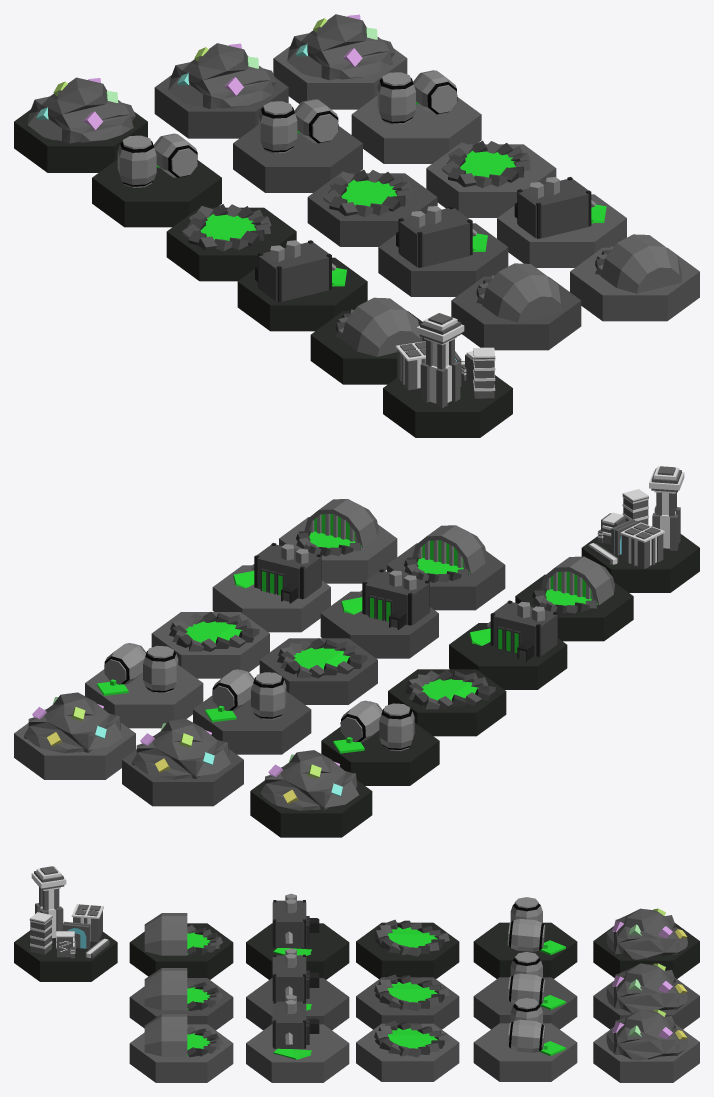
Rendered from toxic final.fbx.
3 renders of one model, top to bottom at view 1: azimuth 30°, elevation 25°; view 2: azimuth 150°, elevation 25°; view 3: azimuth 270°, elevation 25°, orthographic. The views are drawn at different scales.
Visible parts, largest first — view 1: Cylinder.035, Cylinder.008, Cylinder.002, Cylinder.046, Cylinder.001, Cylinder.007, Cylinder.011, Cylinder.041, Cylinder.004, Cylinder.047, Cylinder.006, Cylinder.042 (+4 smaller); view 2: Cylinder.035, Cylinder.007, Cylinder.001, Cylinder.047, Cylinder.004, Cylinder.011, Cylinder.042, Cylinder.002, Cylinder.008, Cylinder.046, Cylinder.006, Cylinder.012 (+4 smaller); view 3: Cylinder.035, Cylinder.042, Cylinder.047, Cylinder.046, Cylinder.041, Cylinder.043, Cylinder.007, Cylinder.012, Cylinder.008, Cylinder.011, Cylinder.009, Cylinder.001 (+4 smaller).
Part boxes in pixels (left/top/right/bottom): Cylinder.035: left=383, top=313, right=512, bottom=437; Cylinder.008: left=92, top=133, right=221, bottom=227; Cylinder.002: left=233, top=99, right=362, bottom=192; Cylinder.046: left=351, top=70, right=481, bottom=163; Cylinder.001: left=154, top=43, right=288, bottom=138; Cylinder.007: left=14, top=77, right=147, bottom=172; Cylinder.011: left=237, top=240, right=367, bottom=331; Cylinder.041: left=570, top=234, right=699, bottom=321; Cylinder.004: left=378, top=206, right=508, bottom=296; Cylinder.047: left=273, top=14, right=407, bottom=109; Cylinder.006: left=451, top=263, right=581, bottom=350; Cylinder.042: left=497, top=177, right=626, bottom=267; Cylinder.035: left=581, top=466, right=699, bottom=592; Cylinder.007: left=250, top=750, right=372, bottom=837; Cylinder.001: left=122, top=718, right=243, bottom=806; Cylinder.047: left=14, top=692, right=135, bottom=779; Cylinder.004: left=320, top=569, right=438, bottom=658; Cylinder.011: left=449, top=600, right=567, bottom=689; Cylinder.042: left=212, top=543, right=330, bottom=632; Cylinder.002: left=193, top=669, right=311, bottom=754; Cylinder.008: left=321, top=700, right=439, bottom=785; Cylinder.046: left=85, top=643, right=203, bottom=728; Cylinder.006: left=387, top=525, right=505, bottom=610; Cylinder.012: left=515, top=556, right=633, bottom=641; Cylinder.035: left=14, top=866, right=117, bottom=981; Cylinder.042: left=246, top=994, right=349, bottom=1082; Cylinder.047: left=593, top=1009, right=699, bottom=1082; Cylinder.046: left=473, top=998, right=577, bottom=1081; Cylinder.041: left=129, top=1014, right=233, bottom=1082; Cylinder.043: left=356, top=1020, right=459, bottom=1081; Cylinder.007: left=593, top=908, right=699, bottom=978; Cylinder.012: left=129, top=913, right=233, bottom=979; Cylinder.008: left=473, top=897, right=577, bottom=978; Cylinder.011: left=246, top=893, right=349, bottom=979; Cylinder.009: left=356, top=919, right=459, bottom=978; Cylinder.001: left=593, top=963, right=699, bottom=1029.
Size of the model in its own units: 6.22 by 1.83 by 12.85.
